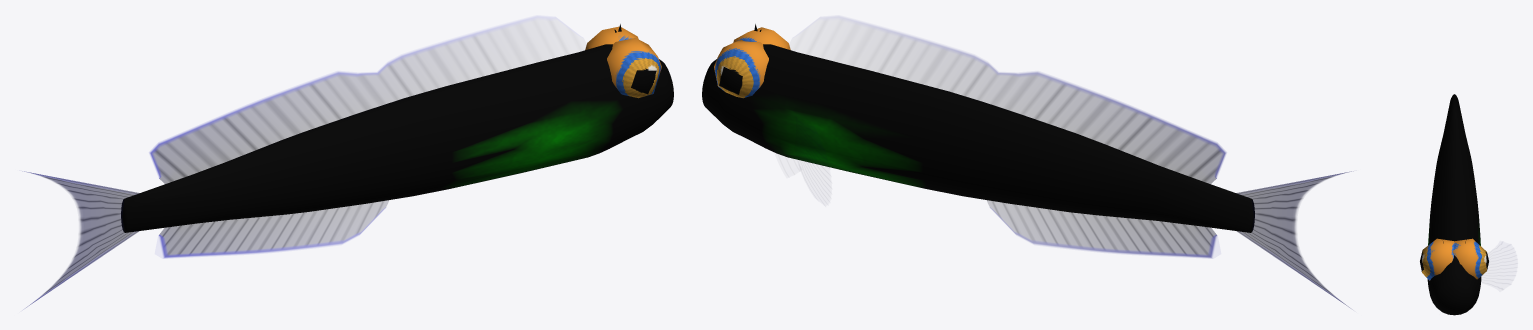
Rendered from midas_blenny_lod1.glb.
The picture shows the model from 3 angles, left to right: view 1: azimuth 30°, elevation 25°; view 2: azimuth 150°, elevation 25°; view 3: azimuth 270°, elevation 25°; orthographic projection. The views are drawn at different scales.
Parts seen in each view (by area): view 1: Body, FinDorsal, FinAnal, FinCaudal, EyeR, EyeL; view 2: Body, FinDorsal, FinAnal, FinCaudal, EyeL, EyeR; view 3: Body, EyeR, EyeL.
Part boxes in pixels (box(x1,y1,x2,y2)): Body: box(121, 24, 673, 232); FinDorsal: box(150, 25, 511, 184); FinAnal: box(159, 201, 388, 257); FinCaudal: box(24, 171, 139, 307); EyeR: box(607, 38, 661, 98); EyeL: box(585, 26, 638, 50); Body: box(702, 24, 1254, 232); FinDorsal: box(864, 25, 1225, 184); FinAnal: box(987, 201, 1216, 257); FinCaudal: box(1236, 171, 1351, 307); EyeL: box(714, 40, 768, 98); EyeR: box(733, 27, 790, 50); Body: box(1427, 94, 1481, 315); EyeR: box(1420, 238, 1454, 280); EyeL: box(1452, 238, 1488, 279).
Size of the model in its own units: 1 by 0.268 by 0.2341.
4 materials, 3 textured.
